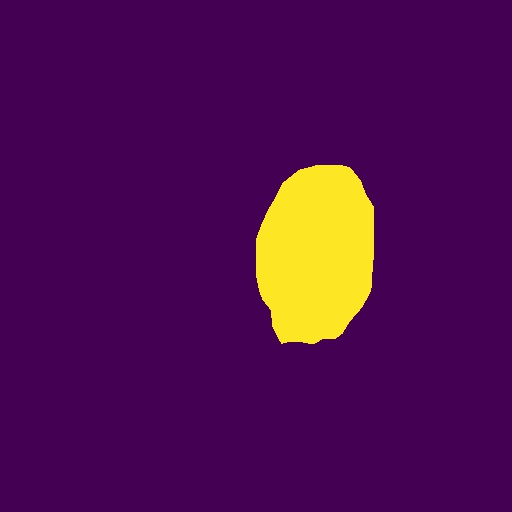Gliomia_tumour: (256, 165, 374, 344)
